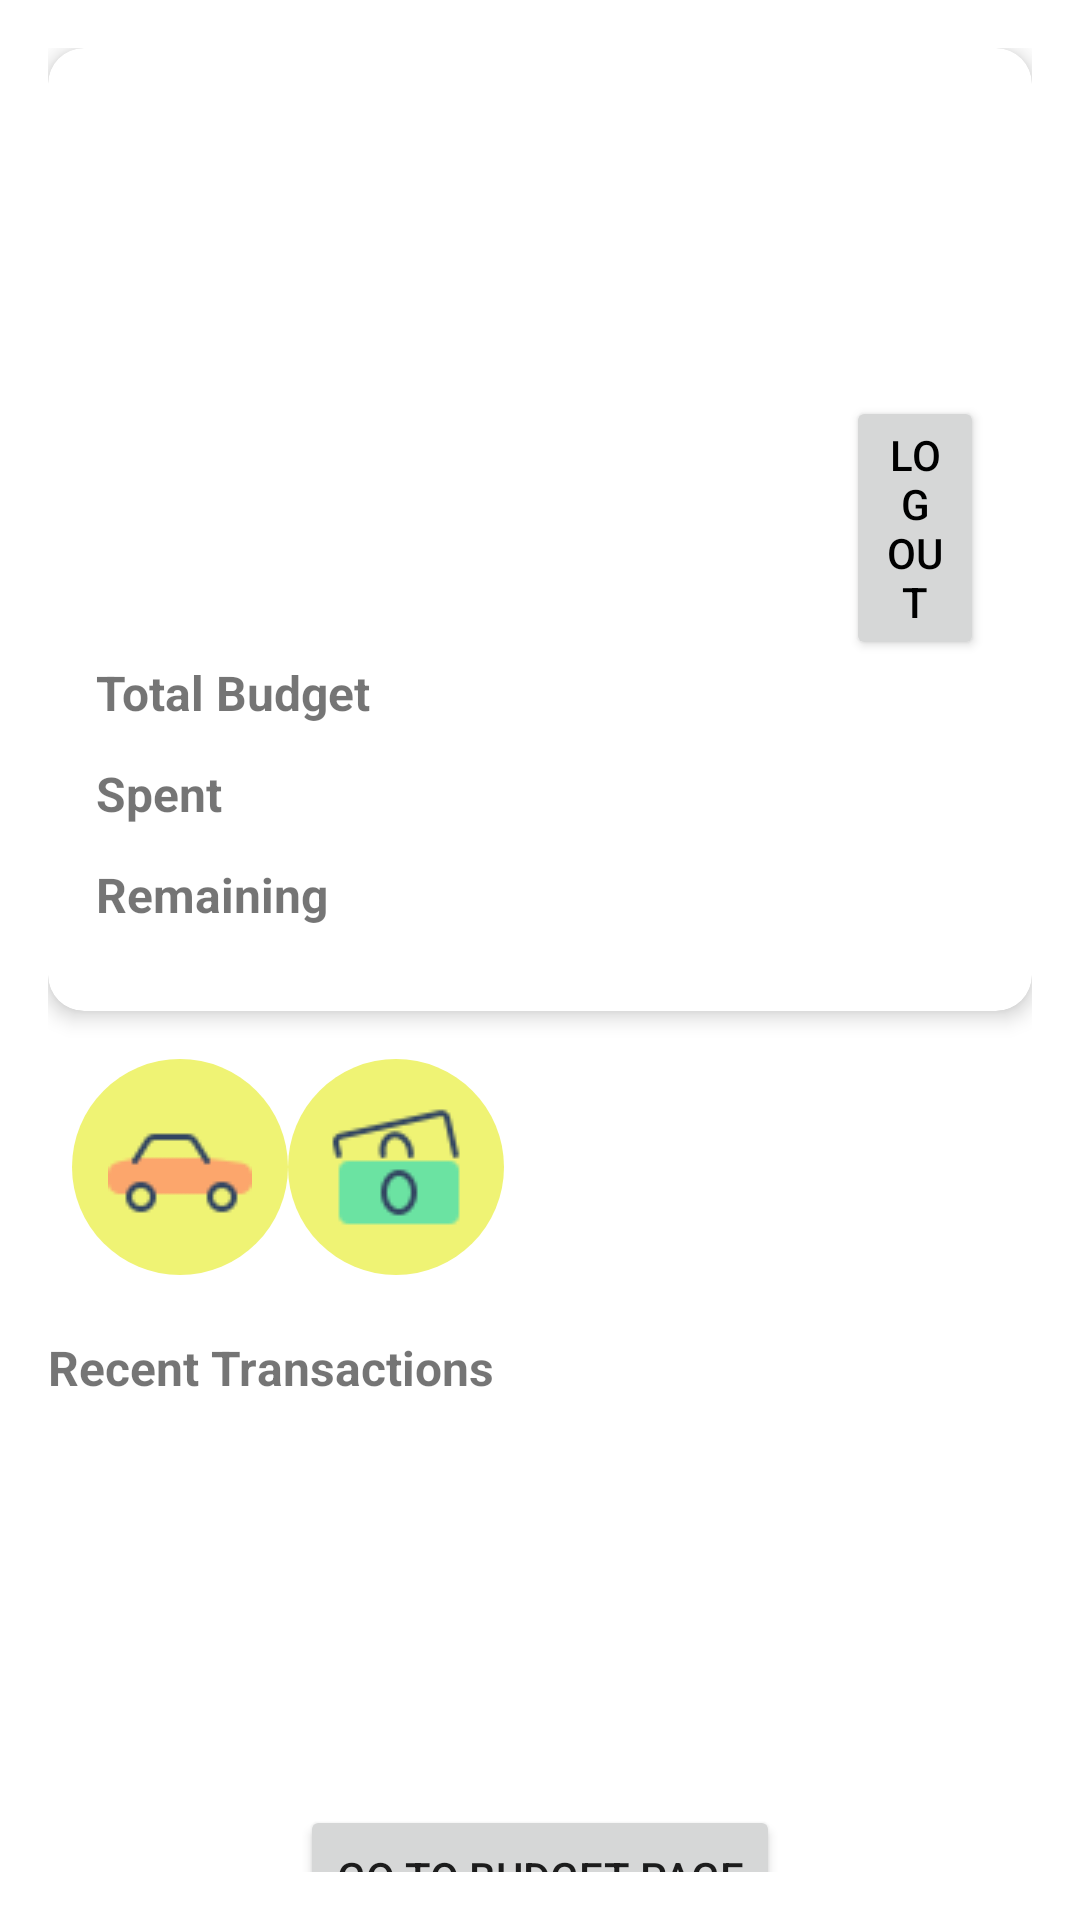

Screen size 1080x1920. Icon name, then its box in pixels as (x1, y1, x2, y2):
money: (332, 1109, 460, 1225)
